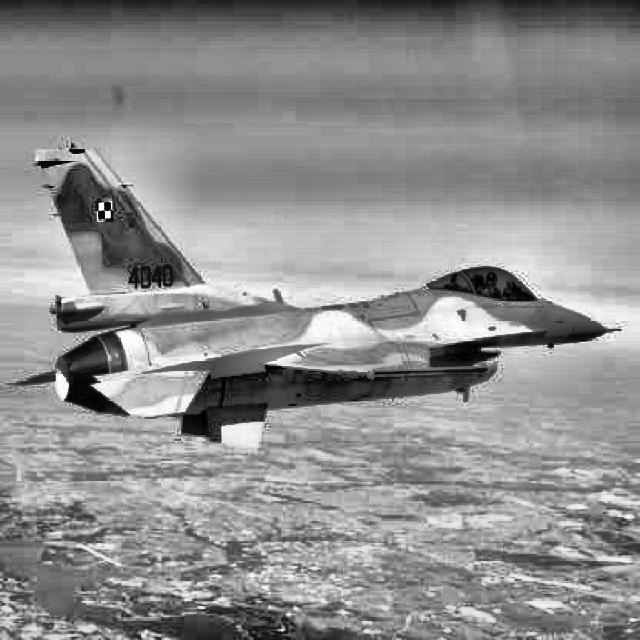F16: (7, 142, 622, 450)
